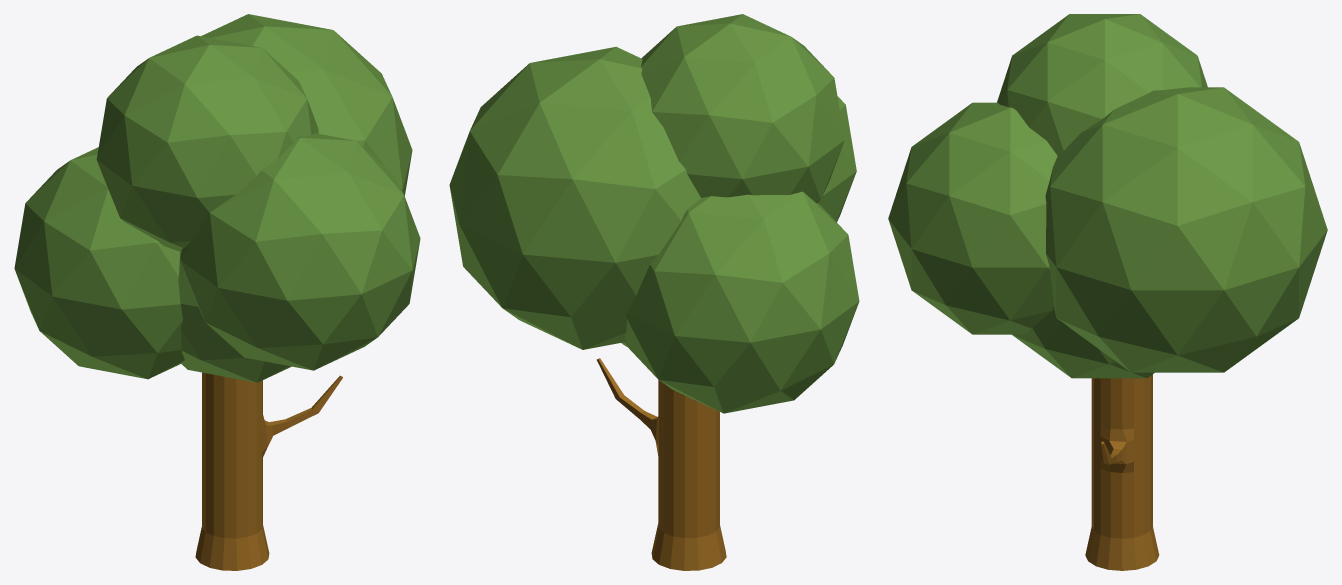
File: round_tree.glb
3 renders of one model, left to right at view 1: azimuth 30°, elevation 25°; view 2: azimuth 150°, elevation 25°; view 3: azimuth 270°, elevation 25°, orthographic. The views are drawn at different scales.
Visible parts, largest first — view 1: Icosphere, Icosphere.003, Icosphere.001, Stem, Icosphere.002, Leaves; view 2: Icosphere.002, Icosphere.001, Icosphere.003, Stem, Icosphere; view 3: Icosphere.002, Icosphere, Icosphere.003, Stem, Leaves.
Boxes of the visible parts, left/top/right/bottom form: Icosphere: left=180, top=133, right=420, bottom=370; Icosphere.003: left=96, top=35, right=318, bottom=251; Icosphere.001: left=14, top=147, right=184, bottom=379; Stem: left=195, top=372, right=342, bottom=570; Icosphere.002: left=201, top=14, right=412, bottom=195; Leaves: left=178, top=251, right=291, bottom=382; Icosphere.002: left=449, top=46, right=700, bottom=349; Icosphere.001: left=625, top=191, right=859, bottom=413; Icosphere.003: left=641, top=14, right=844, bottom=202; Stem: left=597, top=358, right=726, bottom=570; Icosphere: left=818, top=96, right=856, bottom=222; Icosphere.002: left=1045, top=87, right=1327, bottom=372; Icosphere: left=888, top=102, right=1057, bottom=334; Icosphere.003: left=997, top=14, right=1207, bottom=155; Stem: left=1085, top=374, right=1159, bottom=570; Leaves: left=1012, top=307, right=1154, bottom=378.
Size of the model in its own units: 3.37 by 4.71 by 3.6.
